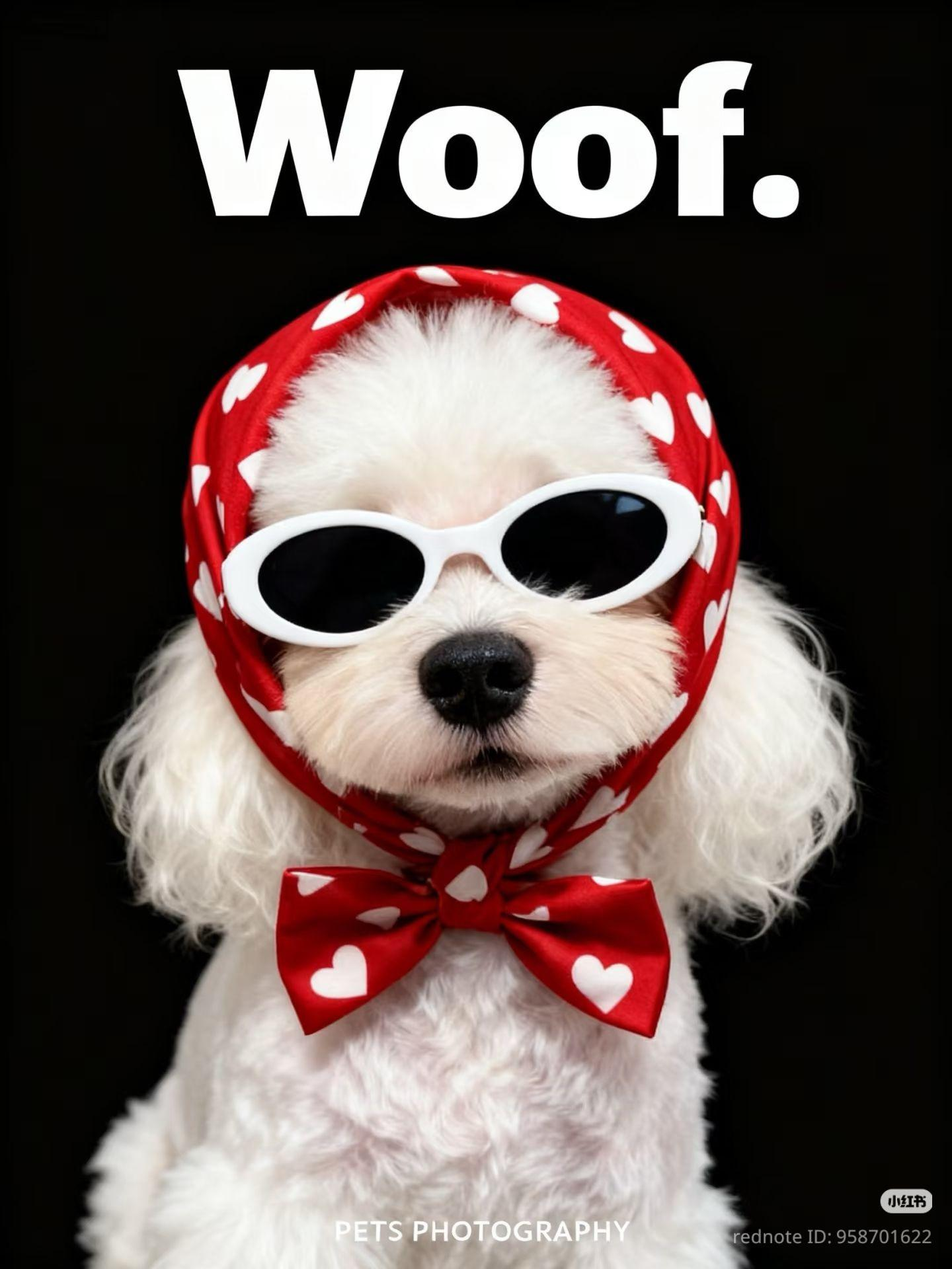adult_dog: (81, 261, 873, 1269)
